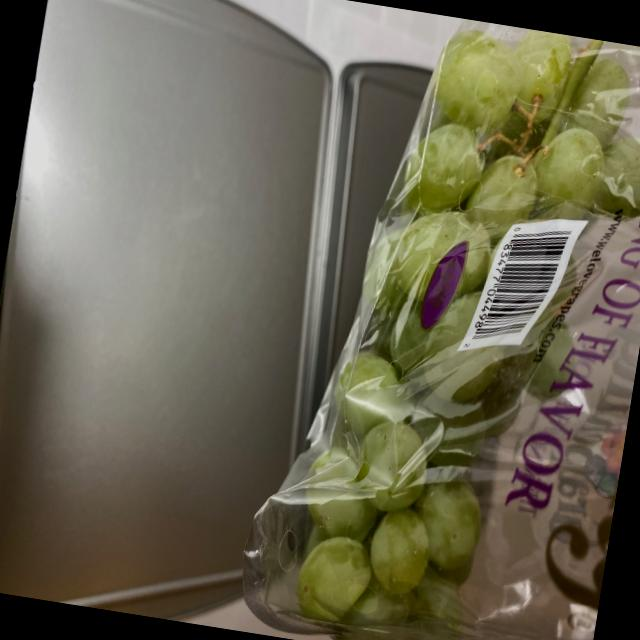grapes: (283, 16, 640, 640)
